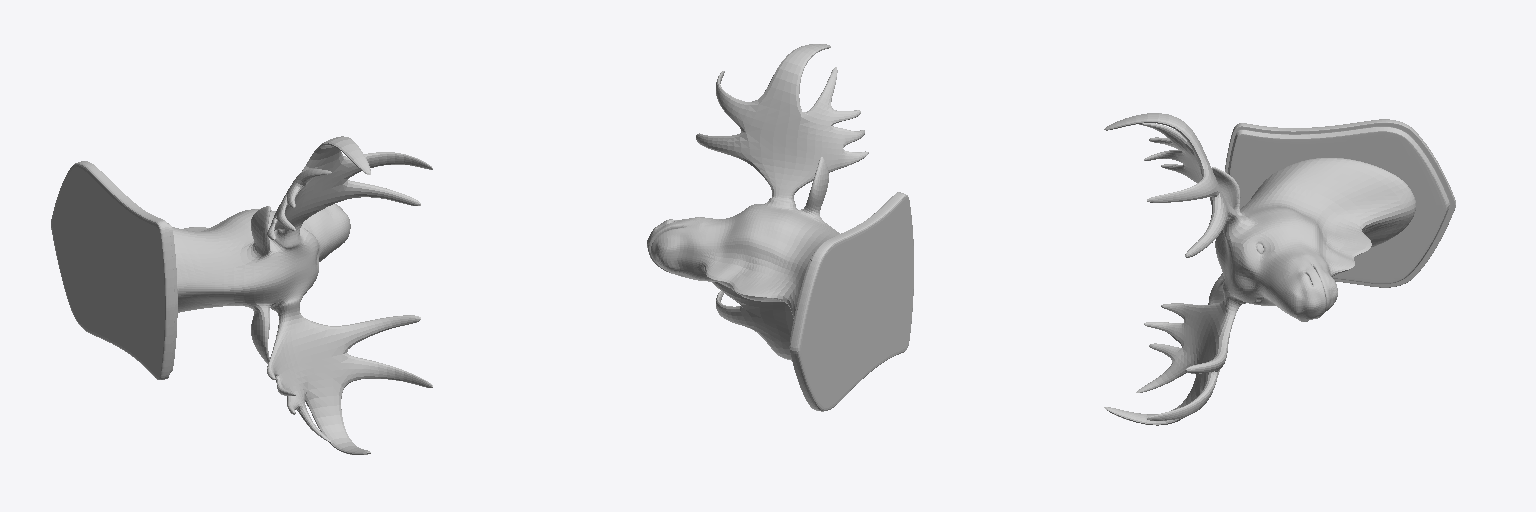
File: 12145_Moose_V212145_Moose_V2_l2.obj
The picture shows the model from 3 angles: view 1: azimuth 30°, elevation 25°; view 2: azimuth 150°, elevation 25°; view 3: azimuth 270°, elevation 25°; orthographic projection.
Visible parts, largest first — view 1: Box01, default; view 2: Box01, default; view 3: Box01, default.
Part boxes in pixels (left/top/right/bottom): Box01: left=172, top=136, right=432, bottom=454; default: left=51, top=161, right=177, bottom=379; Box01: left=647, top=44, right=868, bottom=360; default: left=789, top=192, right=913, bottom=411; Box01: left=1104, top=113, right=1415, bottom=425; default: left=1225, top=119, right=1455, bottom=287.
Bounding box in the file's own units: 118 × 146 × 152.